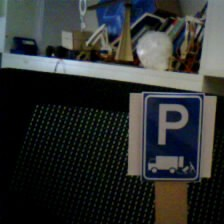load: (130, 91, 208, 181)
